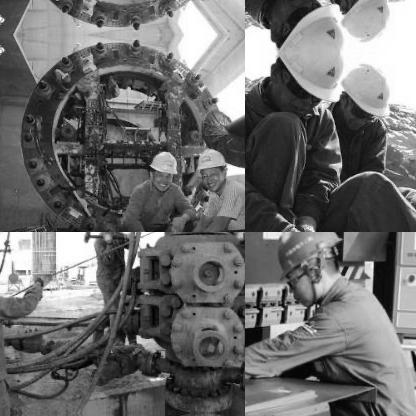Helmet: (258, 50, 352, 119), (328, 54, 400, 130), (268, 232, 345, 303), (327, 0, 401, 50), (194, 143, 228, 189), (146, 146, 178, 188)
